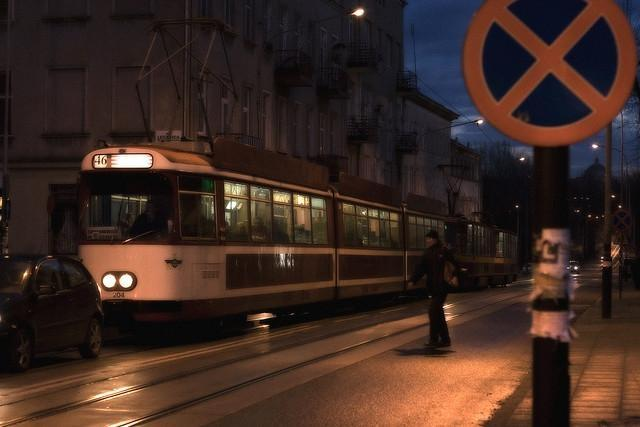car: (3, 255, 104, 373), (570, 260, 580, 274)
